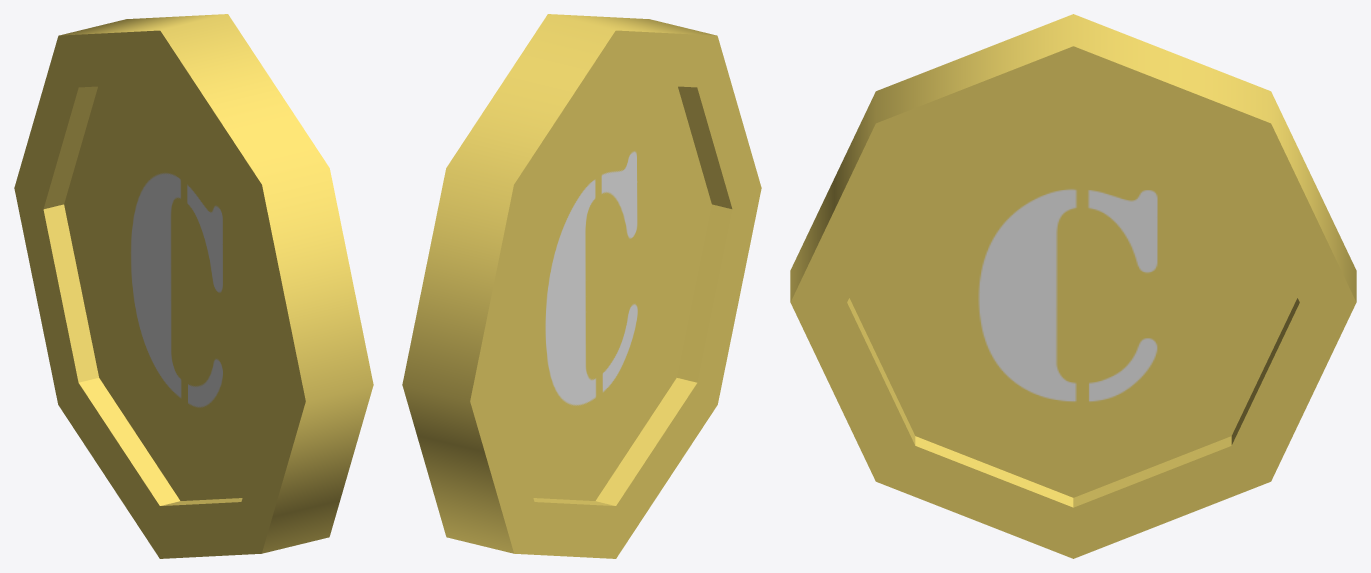
The model's file is Coin.fbx.
3 renders of one model, left to right at view 1: azimuth 30°, elevation 25°; view 2: azimuth 150°, elevation 25°; view 3: azimuth 270°, elevation 25°, orthographic. The views are drawn at different scales.
Parts seen in each view (by area): view 1: pCylinder20; view 2: pCylinder20; view 3: pCylinder20.
Boxes of the visible parts, x1,y1,x2,y2 form: pCylinder20: (14, 14, 373, 558); pCylinder20: (402, 14, 761, 558); pCylinder20: (790, 14, 1356, 558).
Bounding box in the file's own units: 0.1175 × 0.8704 × 0.8703.
